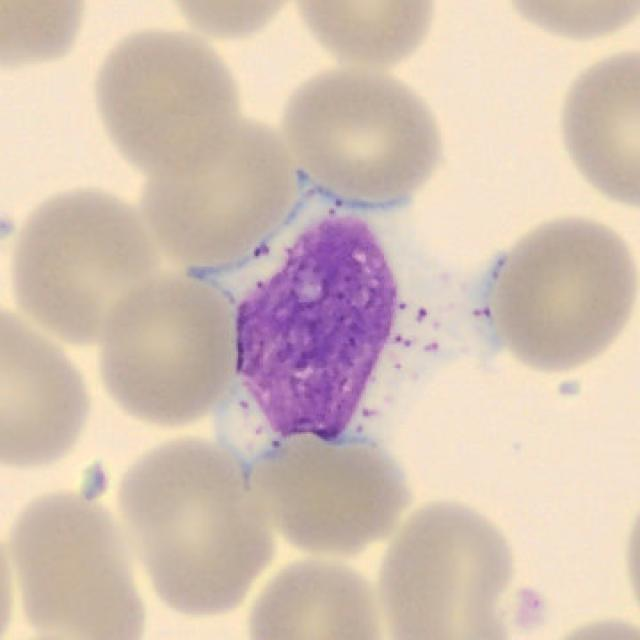Linfocito atipico: (187, 171, 507, 491)
